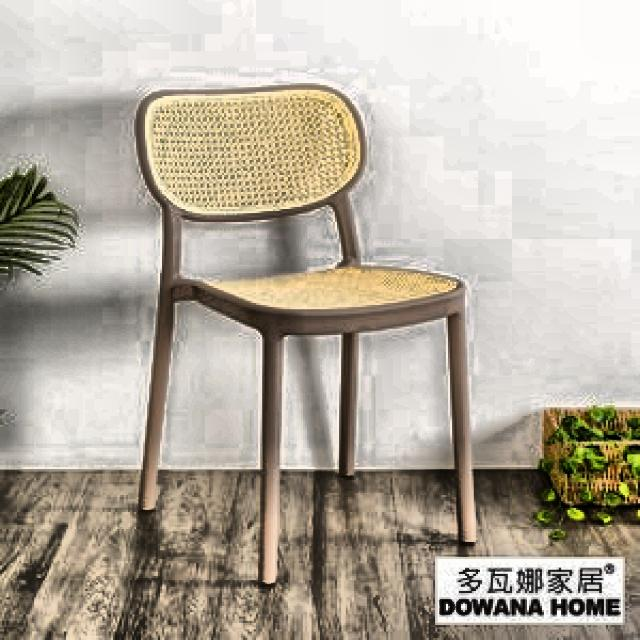cadeira: (123, 79, 486, 586)
